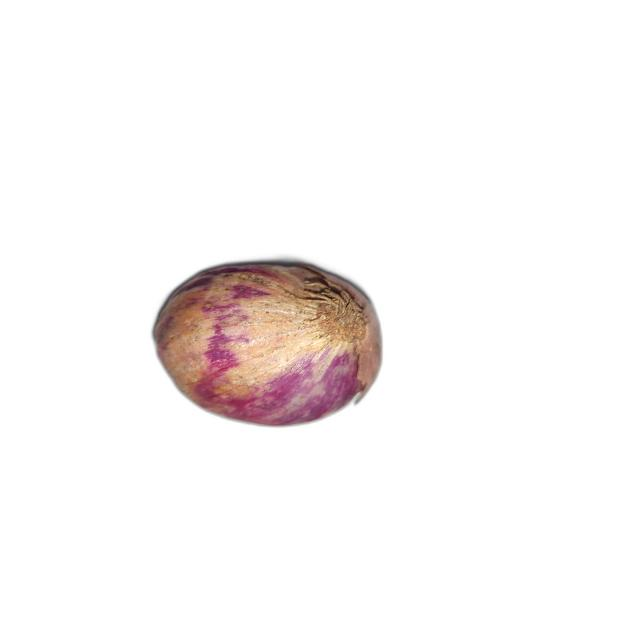onion: (149, 260, 384, 428)
